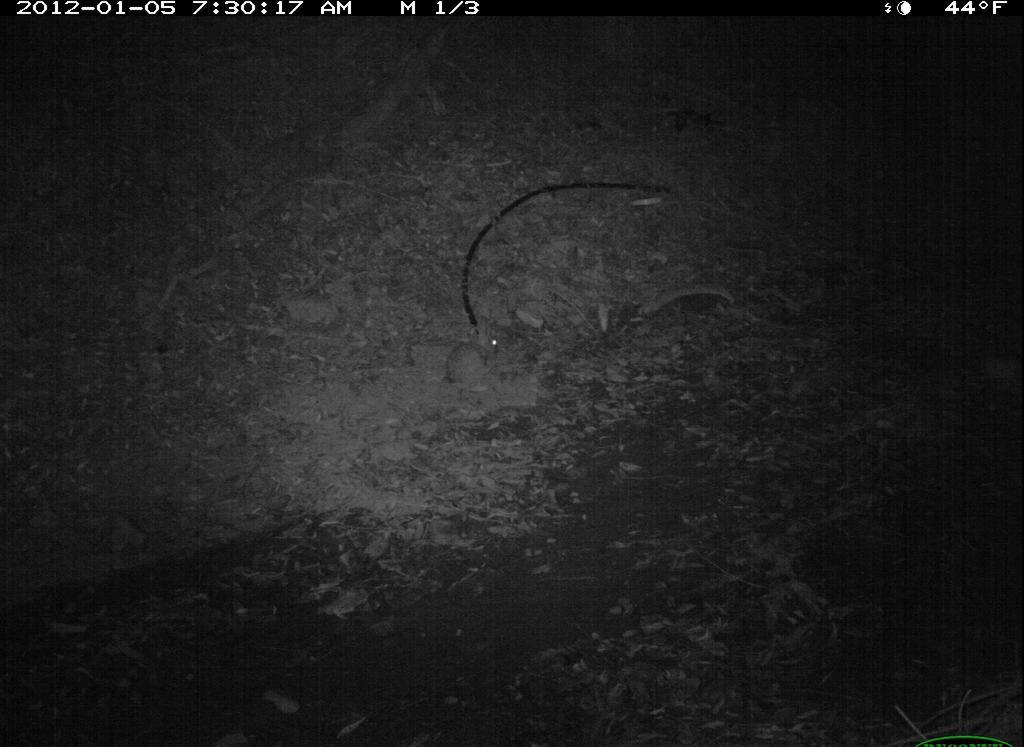rabbit: (433, 316, 517, 396)
